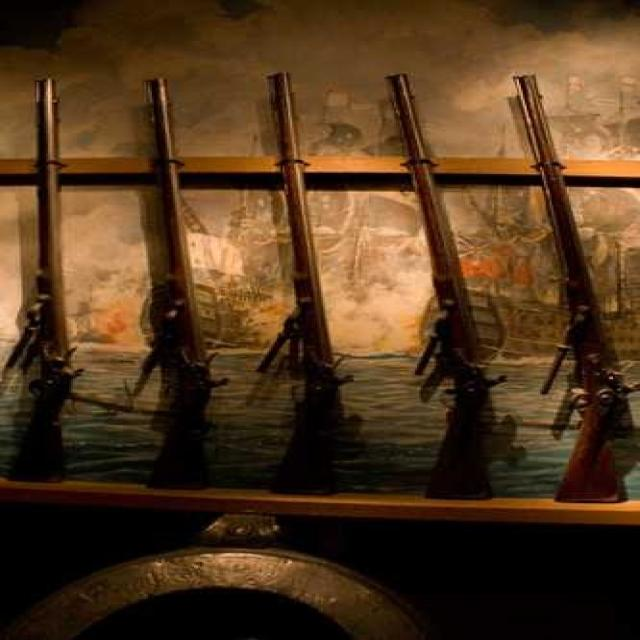heavyweapon: (97, 62, 251, 502), (232, 54, 349, 588), (516, 57, 640, 553), (1, 33, 105, 522), (384, 59, 480, 581)
